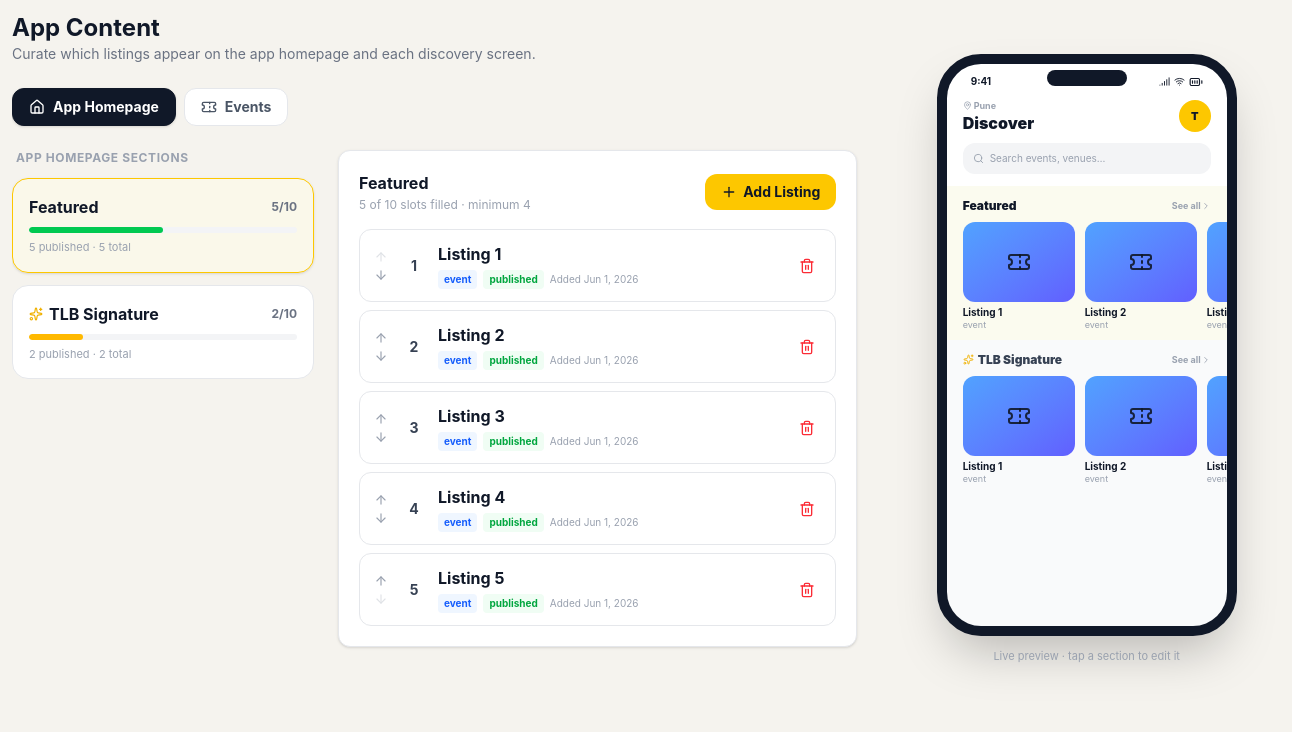
Test case: UserAppAlignment › surfaces a mapped error when a mutation fails
The width and height of the screenshot is (1292, 732).
Click the 1st button named "Remove from section" at (807, 266), box [791,250,823,282]
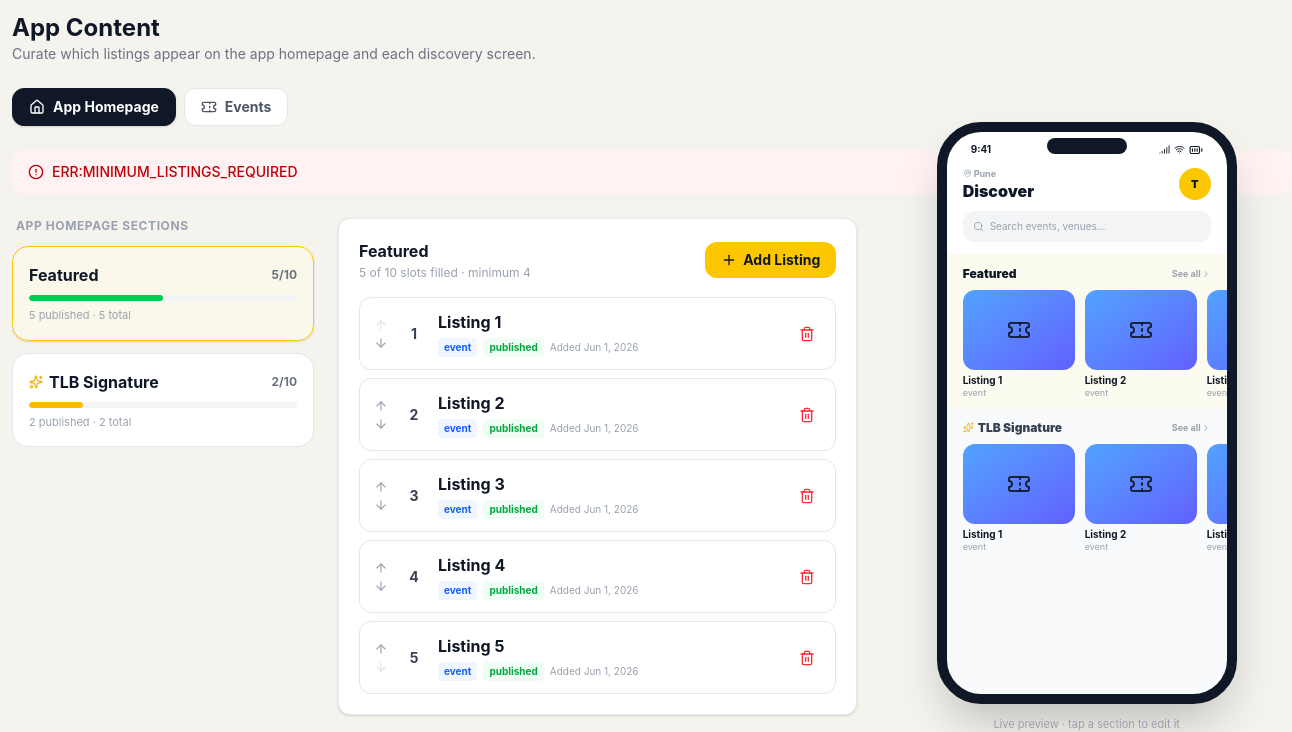
Check: the text "ERR:MINIMUM_LISTINGS_REQUIRED" is shown, box [12,150,1291,194]
